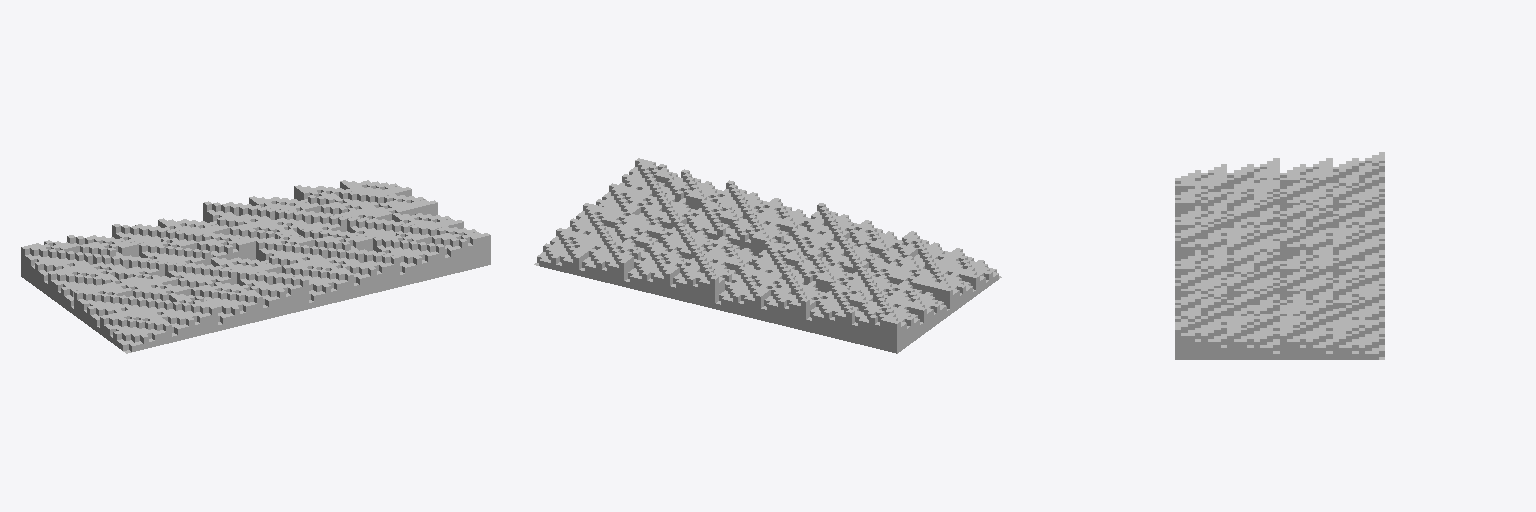
3 renders of one model, left to right at view 1: azimuth 30°, elevation 25°; view 2: azimuth 150°, elevation 25°; view 3: azimuth 270°, elevation 25°, orthographic.
Size of the model in its own units: 64 by 5 by 32.